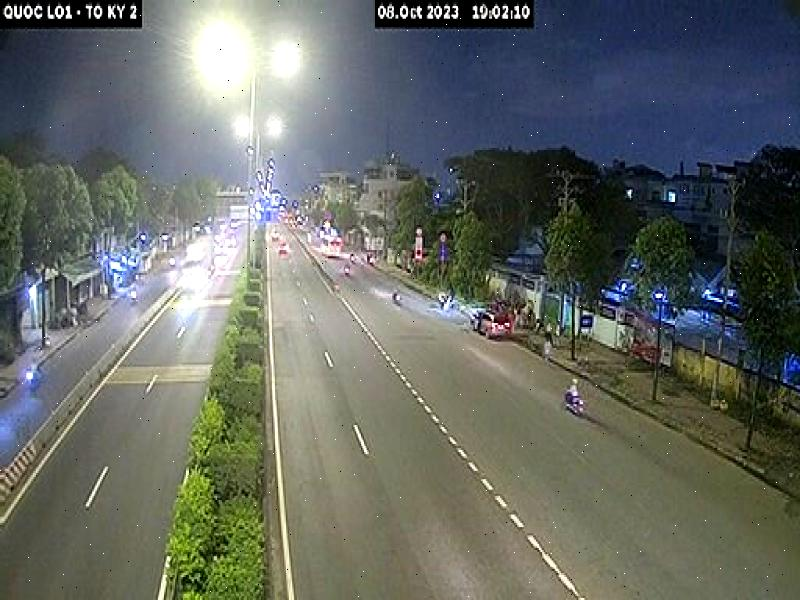car: (464, 294, 518, 353)
